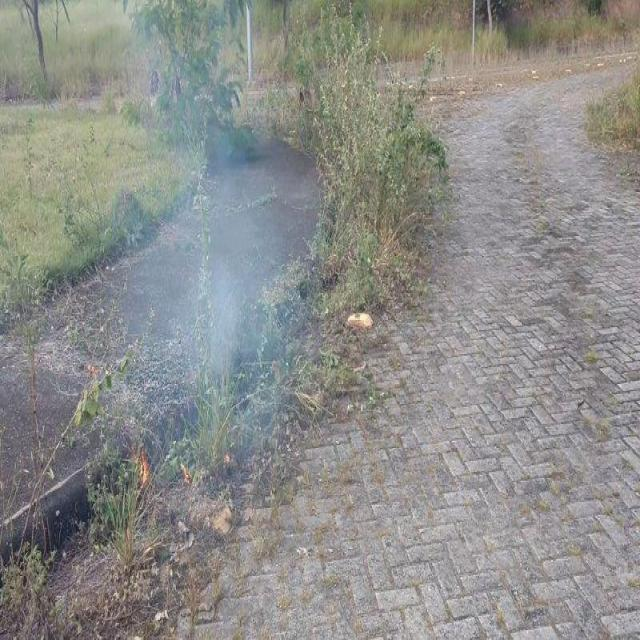Fire: (134, 451, 148, 486), (180, 460, 190, 483), (224, 453, 230, 461)
Smoke: (144, 61, 244, 231), (164, 234, 248, 406)
